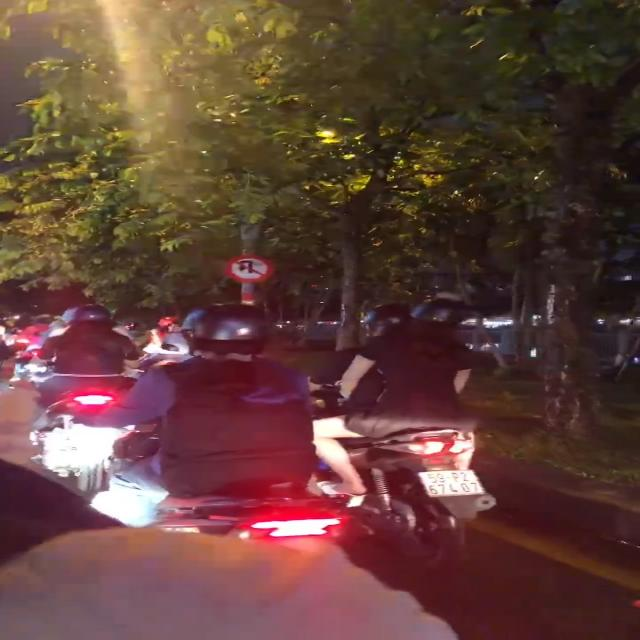Bien bao cam quay dau xe: (226, 252, 277, 282)
